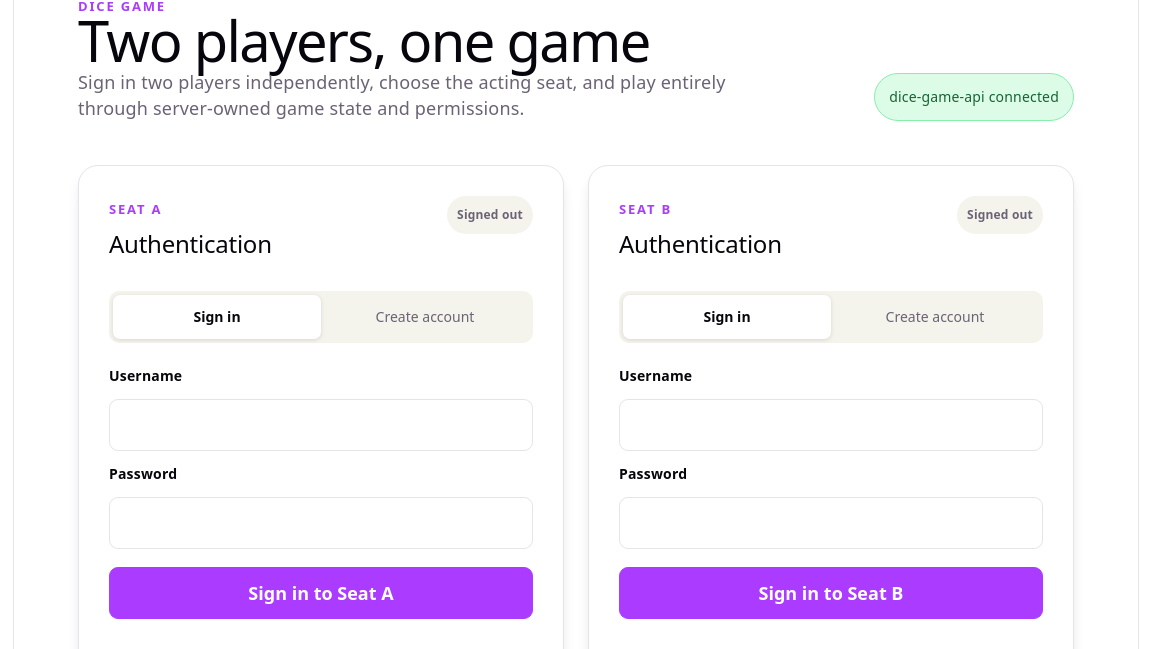
Test: App › creates a game from the exact active token and other-seat identity
Type "SeatAlpha" into the 1st field labelled "Username" at [321, 425], box x1=109 y1=399 x2=533 y2=451
Type "private password" into the 1st password field labelled "Password" at [321, 523], box x1=109 y1=497 x2=533 y2=549
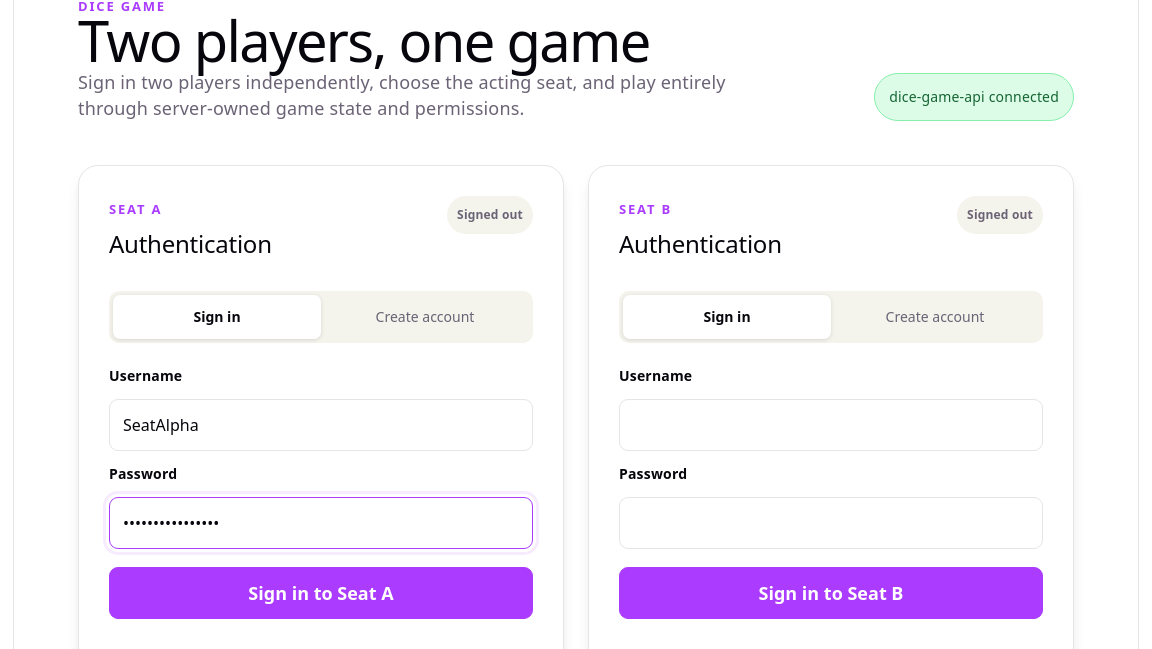
Click the button "Sign in to Seat A" at [321, 593], box x1=109 y1=567 x2=533 y2=619
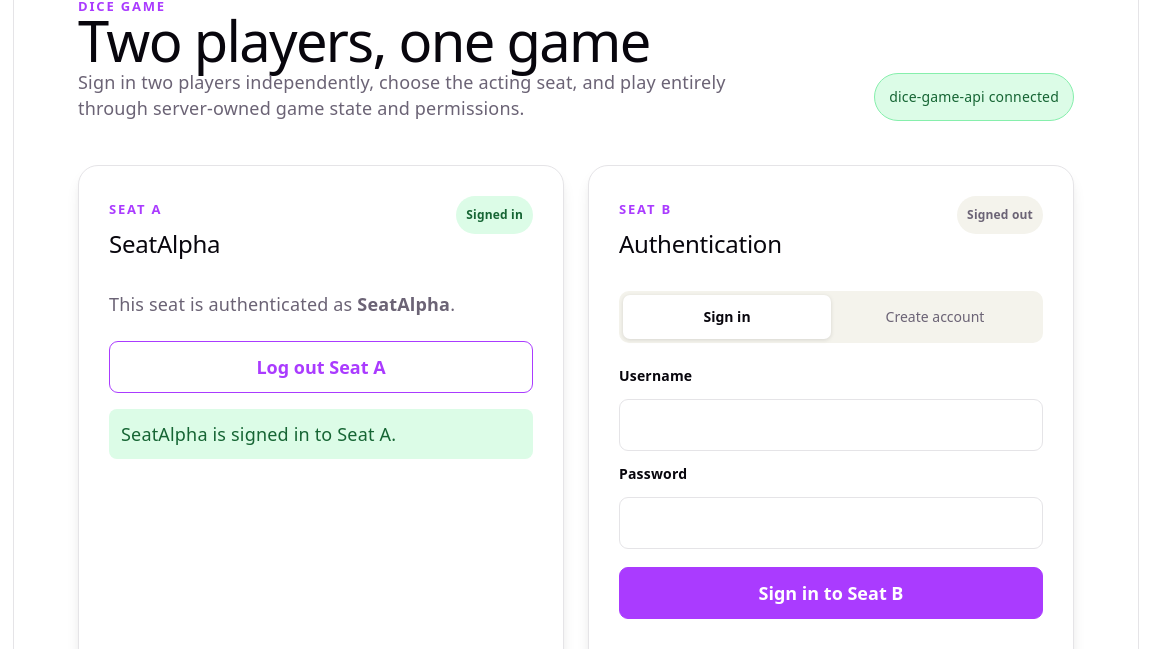
Type "SeatBravo" into the field labelled "Username" at [831, 425], box x1=619 y1=399 x2=1043 y2=451
Type "private password" into the password field labelled "Password" at [831, 523], box x1=619 y1=497 x2=1043 y2=549
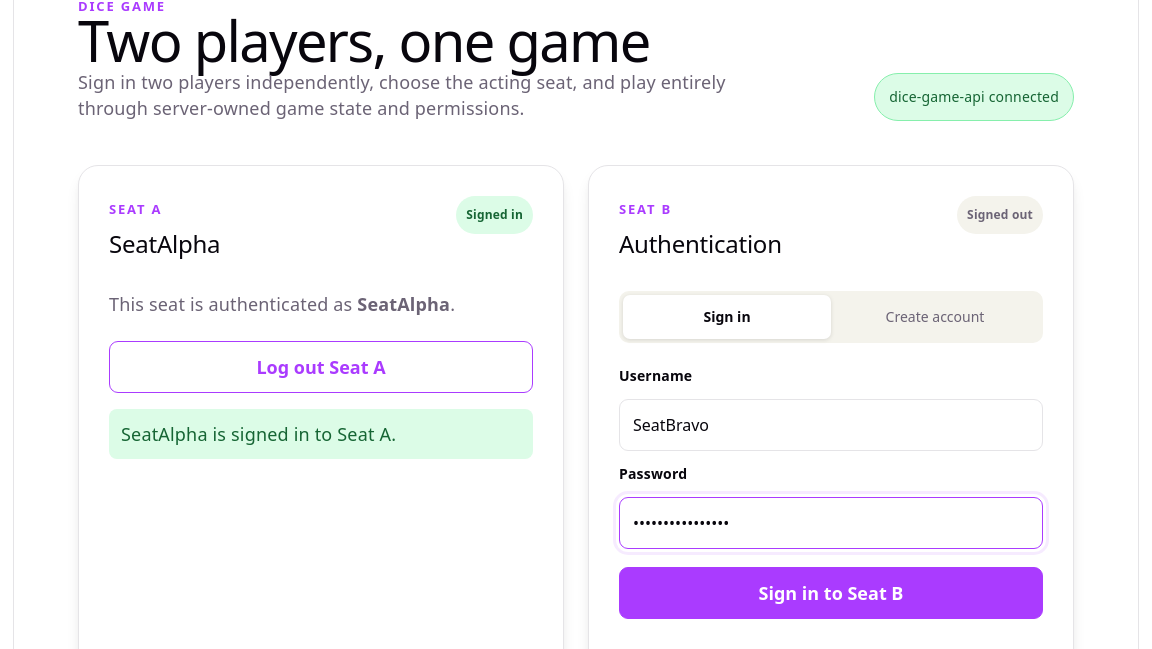
Click the button "Sign in to Seat B" at [831, 593], box x1=619 y1=567 x2=1043 y2=619
(page scrolled)
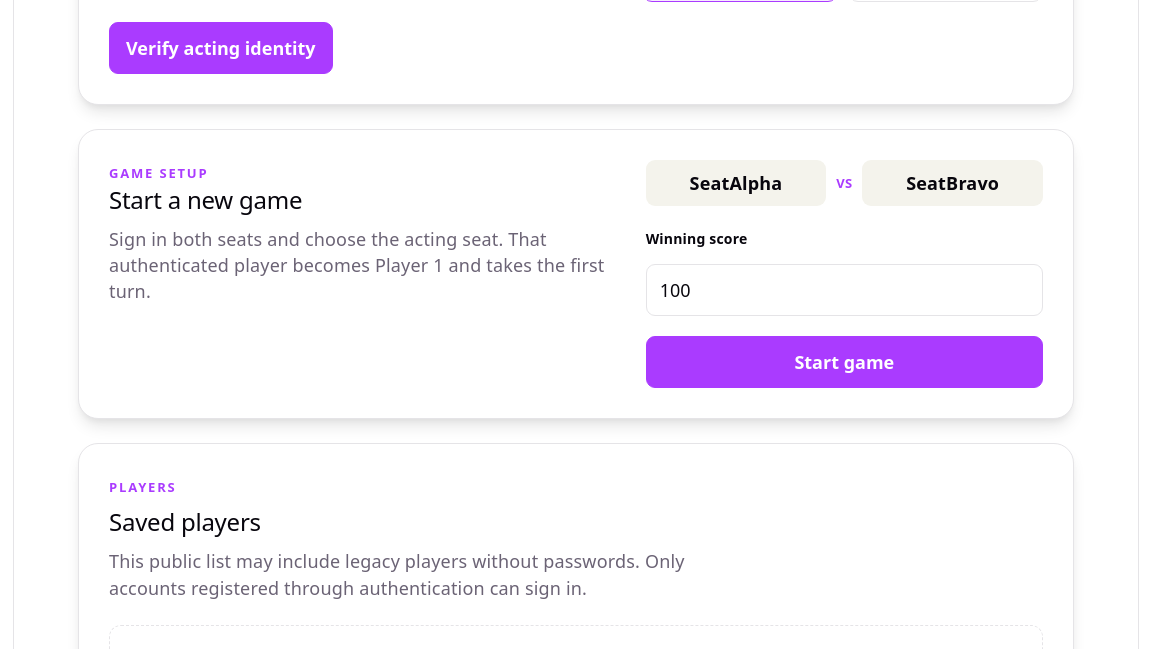
Replace the text in the number field labelled "Winning score" with "25" at [844, 290], box x1=646 y1=264 x2=1043 y2=316
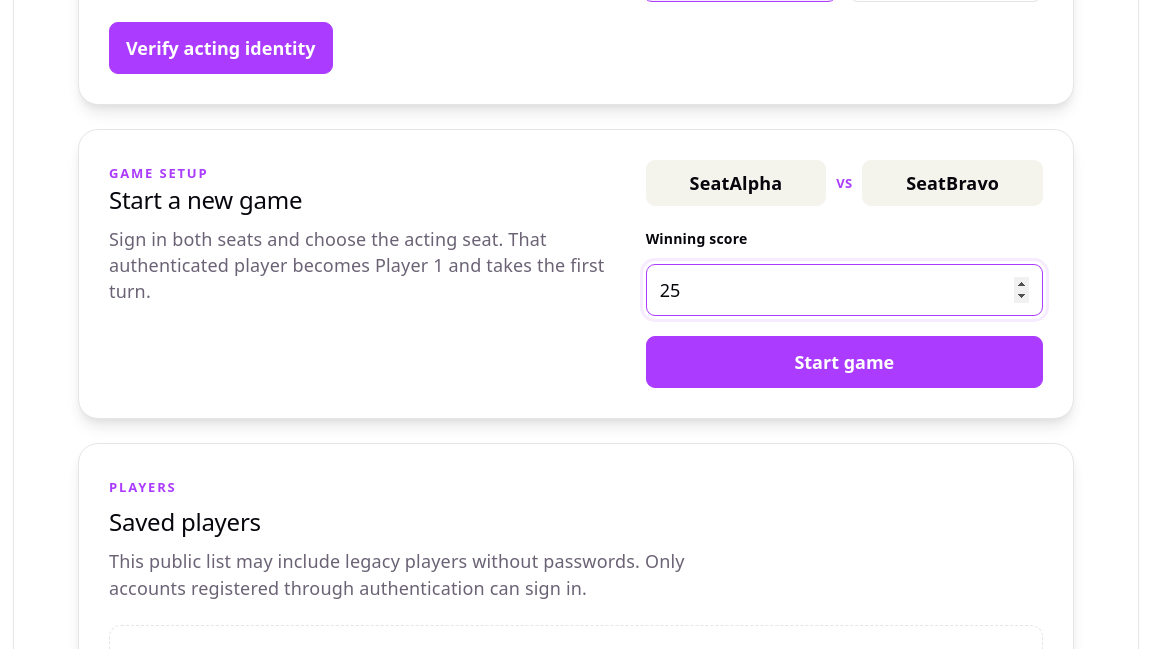
Click the button "Start game" at [844, 362], box x1=646 y1=336 x2=1043 y2=388
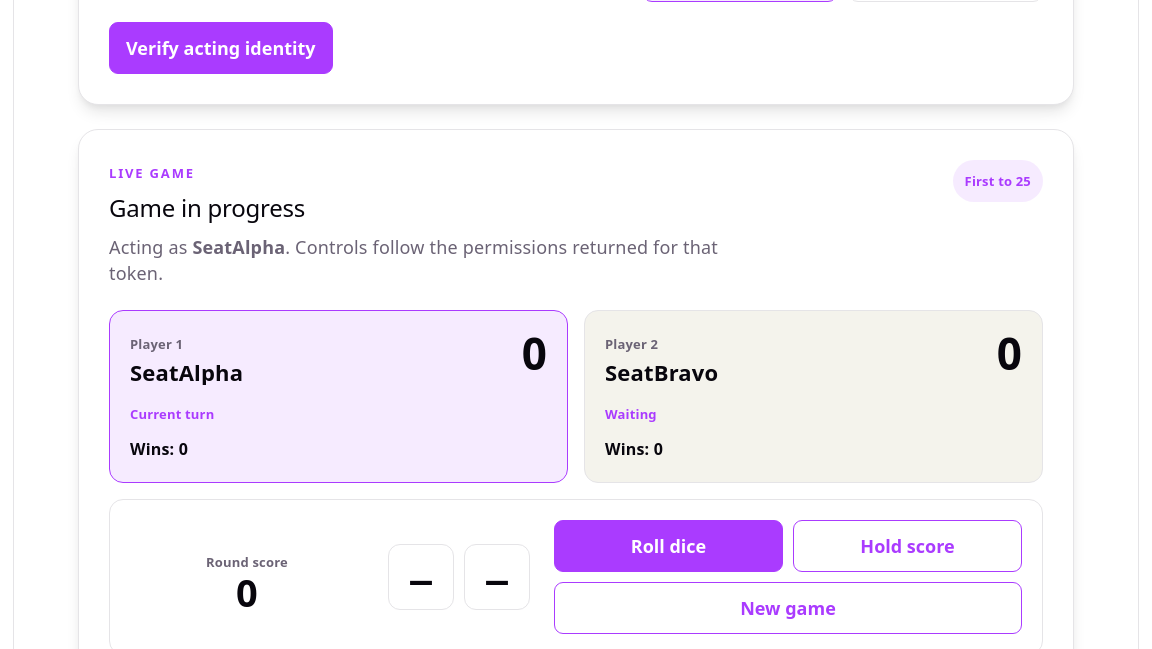
Expected: the heading "Game in progress" is shown, x1=109 y1=191 x2=305 y2=224
